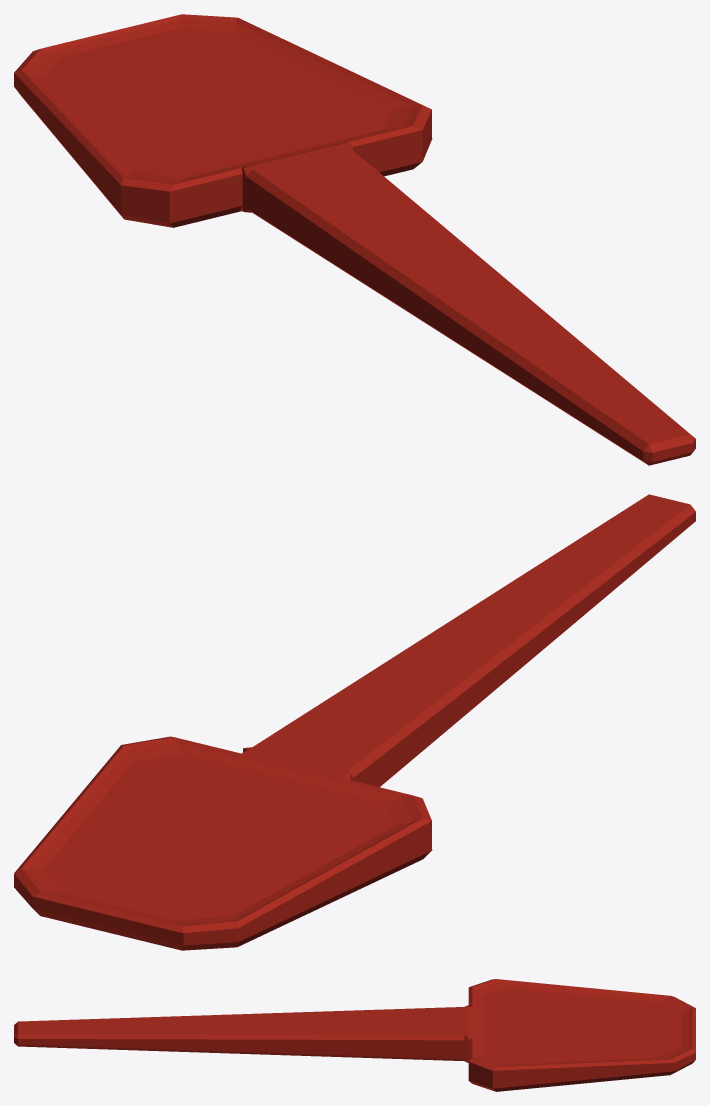
File: Spatula.fbx
3 views of the same model, one above another, from view 1: azimuth 30°, elevation 25°; view 2: azimuth 150°, elevation 25°; view 3: azimuth 270°, elevation 25° (orthographic). The views are drawn at different scales.
Parts seen in each view (by area): view 1: Cube.009; view 2: Cube.009; view 3: Cube.009.
Part boxes in pixels (bbox=[...]): Cube.009: bbox=[14, 14, 695, 465]; Cube.009: bbox=[14, 494, 695, 950]; Cube.009: bbox=[14, 979, 695, 1091].
Bounding box in the file's own units: 352 × 54.09 × 1109.
